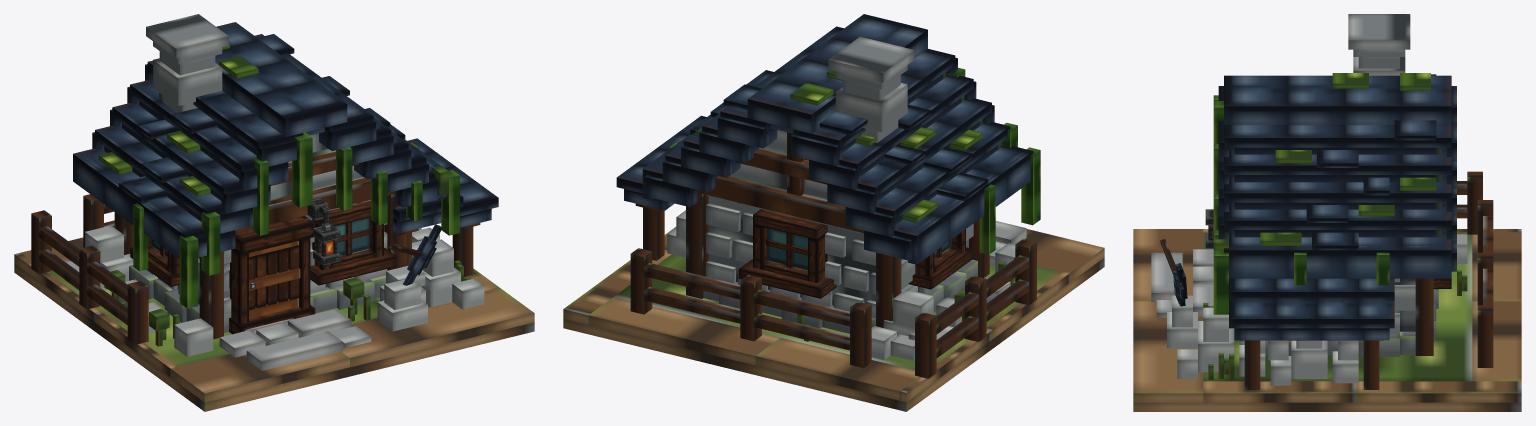
The model's file is stonecutters_hut.fbx.
3 renders of one model, left to right at view 1: azimuth 30°, elevation 25°; view 2: azimuth 150°, elevation 25°; view 3: azimuth 270°, elevation 25°, orthographic. The views are drawn at different scales.
Parts seen in each view (by area): view 1: stonecutters_hut; view 2: stonecutters_hut; view 3: stonecutters_hut.
Boxes of the visible parts, bbox=[...] form: stonecutters_hut: bbox=[14, 14, 534, 411]; stonecutters_hut: bbox=[563, 14, 1104, 411]; stonecutters_hut: bbox=[1133, 14, 1521, 411].
Size of the model in its own units: 9.75 by 7.25 by 9.38.
